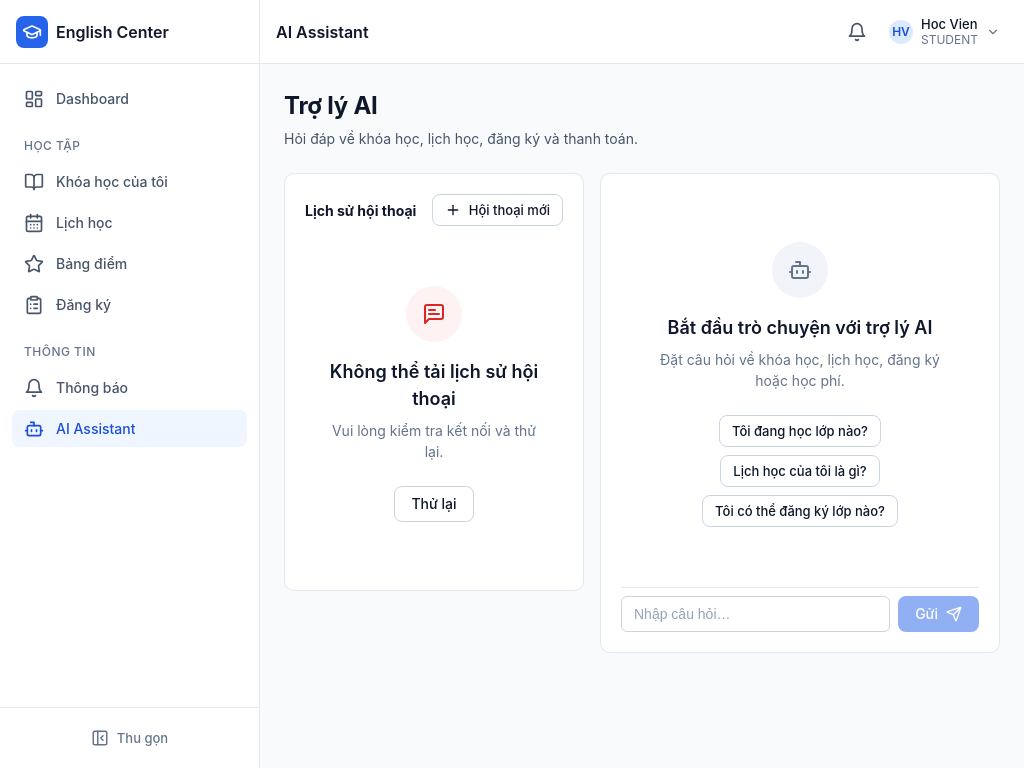
Scenario: AiChatPage › shows history error with retry and reloads on retry
The image size is (1024, 768).
Expected: the heading "Không thể tải lịch sử hội thoại" is shown, [329,358,539,412]
Click the button "Thử lại" at (434, 504), box [394,486,474,522]
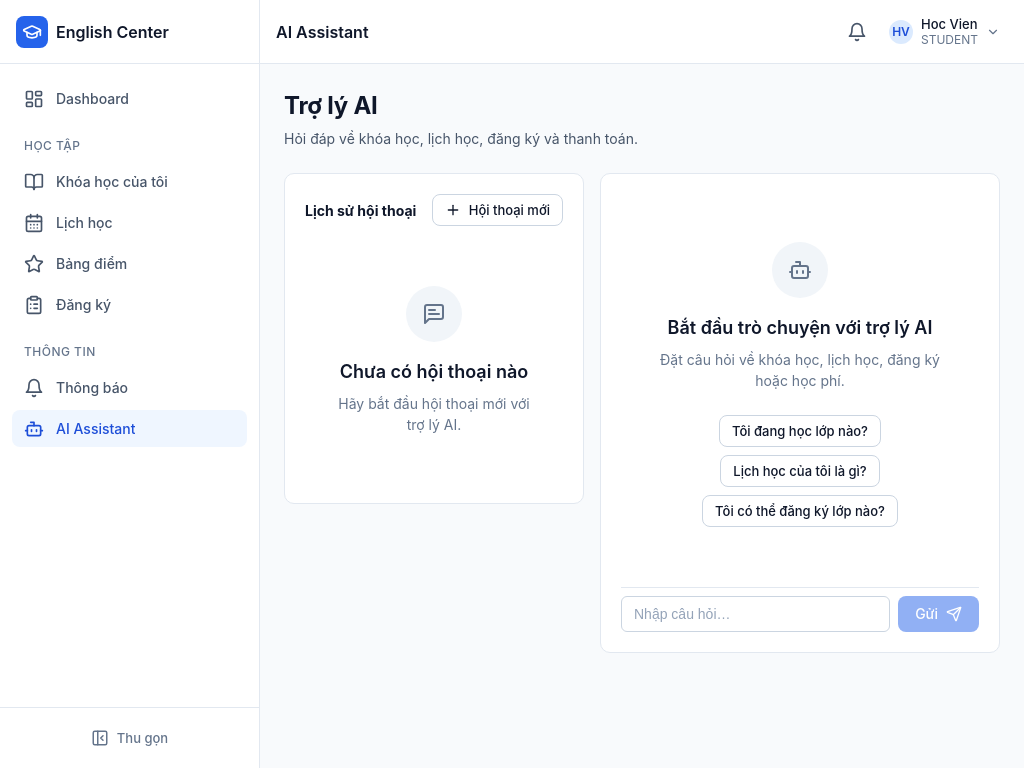
Now the heading "Chưa có hội thoại nào" is shown, box [340,358,528,385]
